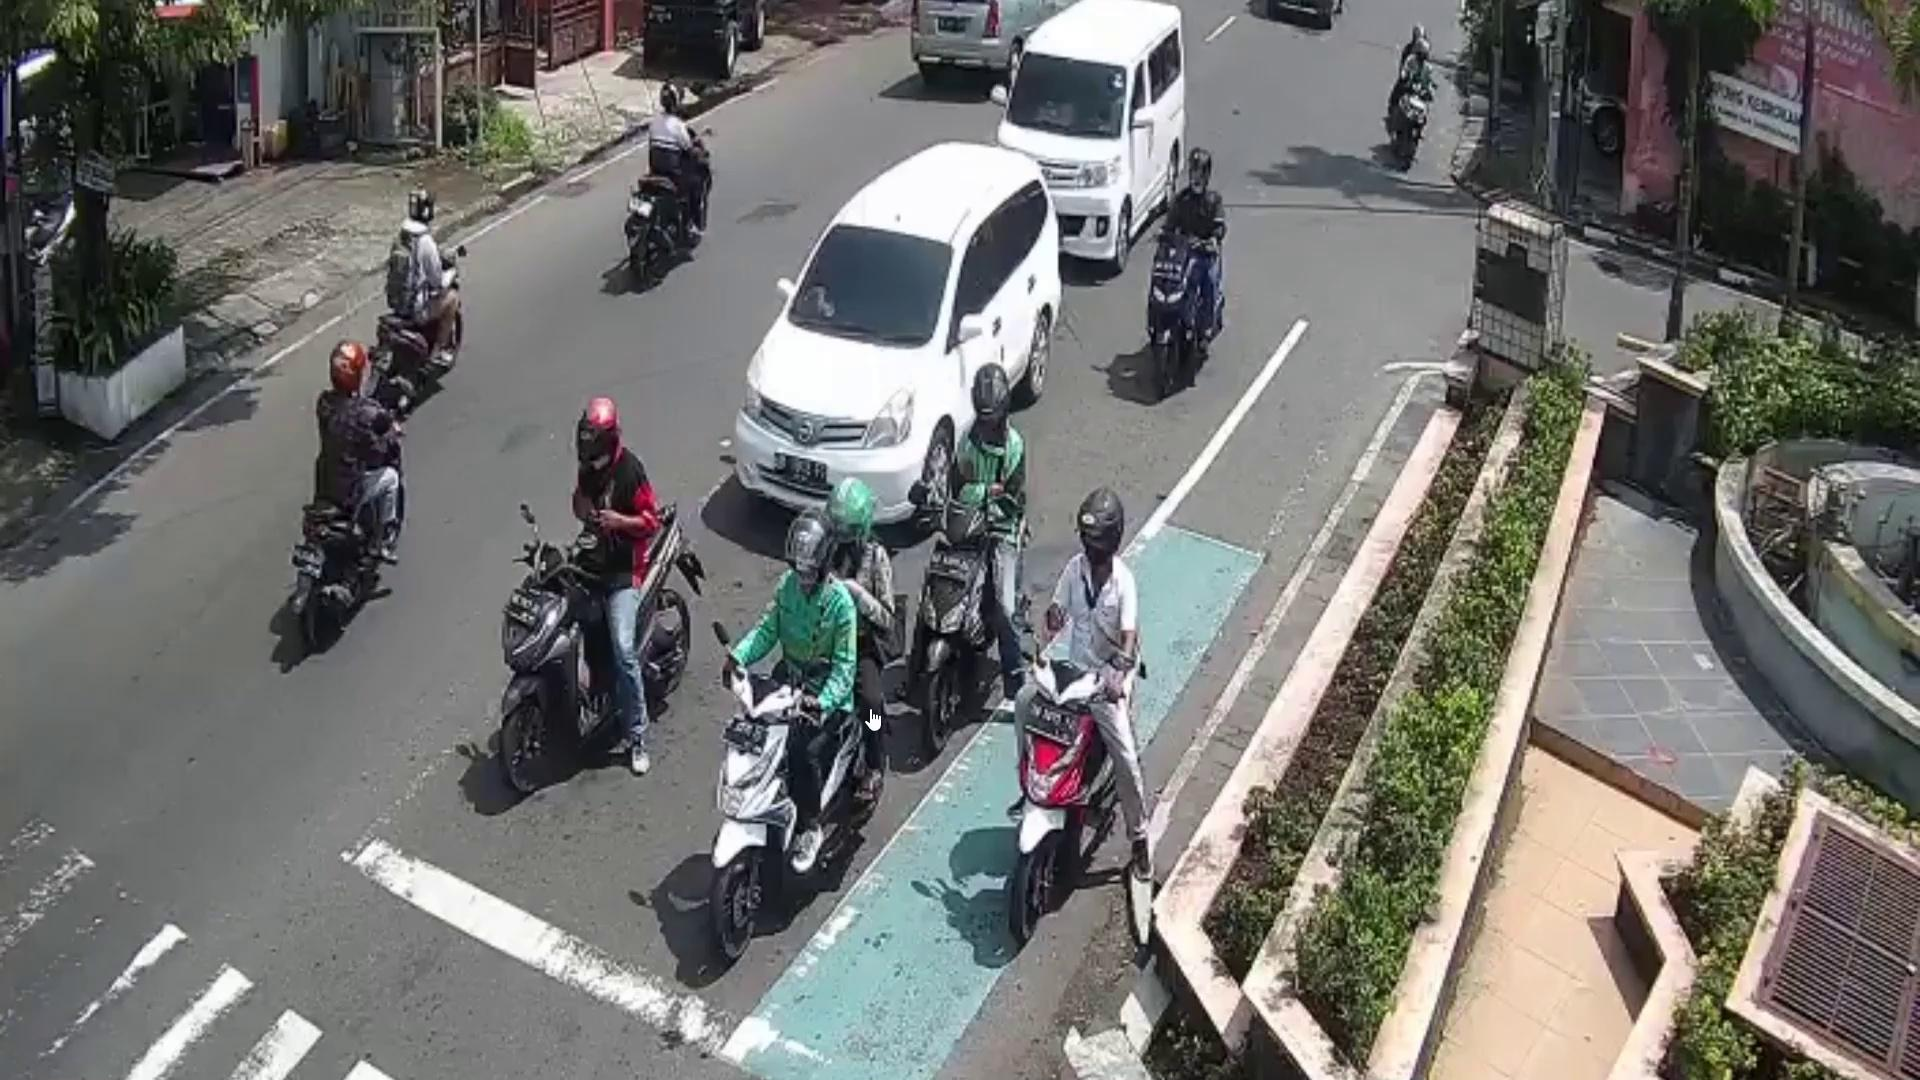car: (754, 133, 1068, 508), (1014, 0, 1204, 251), (910, 0, 1068, 82)
motorbike: (489, 501, 702, 800), (711, 669, 870, 959), (284, 409, 407, 657), (1013, 653, 1116, 936), (914, 501, 998, 753), (371, 252, 464, 410), (630, 128, 712, 289), (1153, 232, 1204, 396), (1400, 78, 1428, 175)
